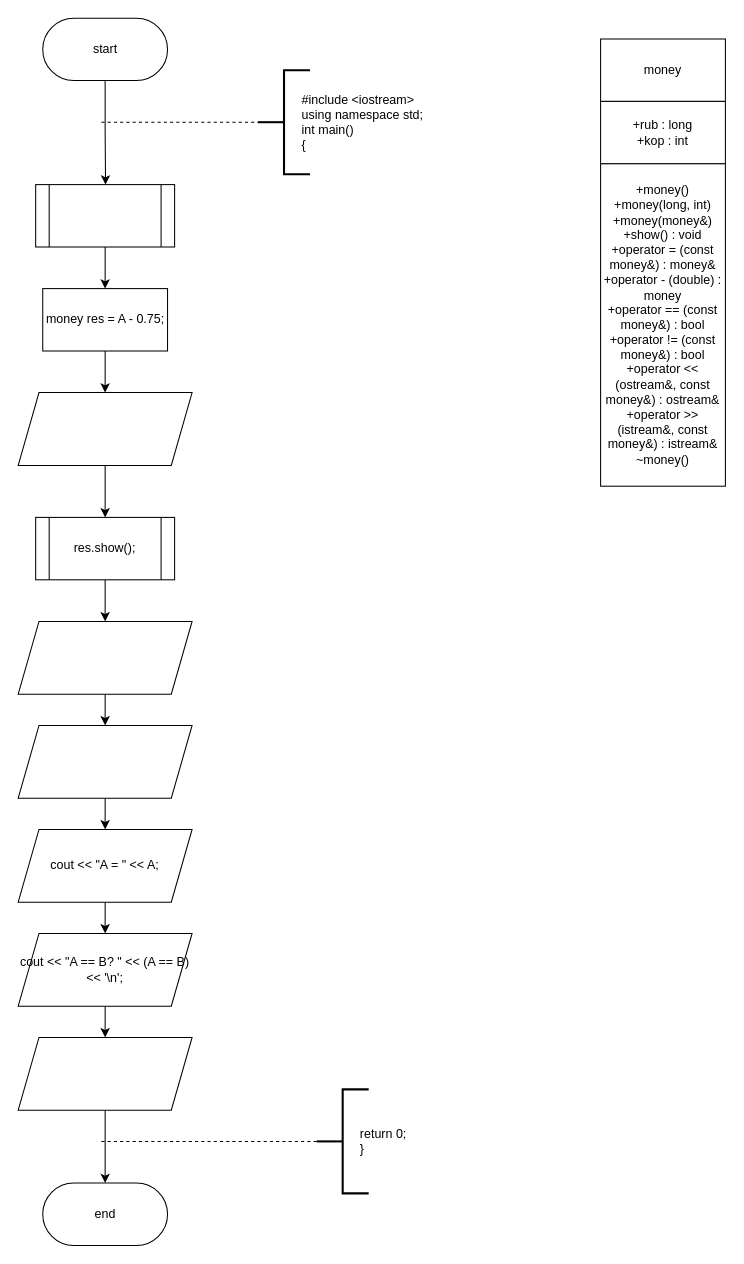
Some shapes in this 744 by 1264 pixel diagram are drawn without their labels. The shapes that lost their labels are listed below. From the top down, each one's centre as x and y in pixels, then its label:
point 105,215: money A(125, 50); money B(50, 75); money C(0, 25);
point 104,428: cout << "A = 125,50" << '\n' << "A - 0.75 = ";
point 104,657: cout << "B = " << B;
point 104,761: cin >> A;
point 104,1073: cout << "A != B? " << (A != B) << '\n';
